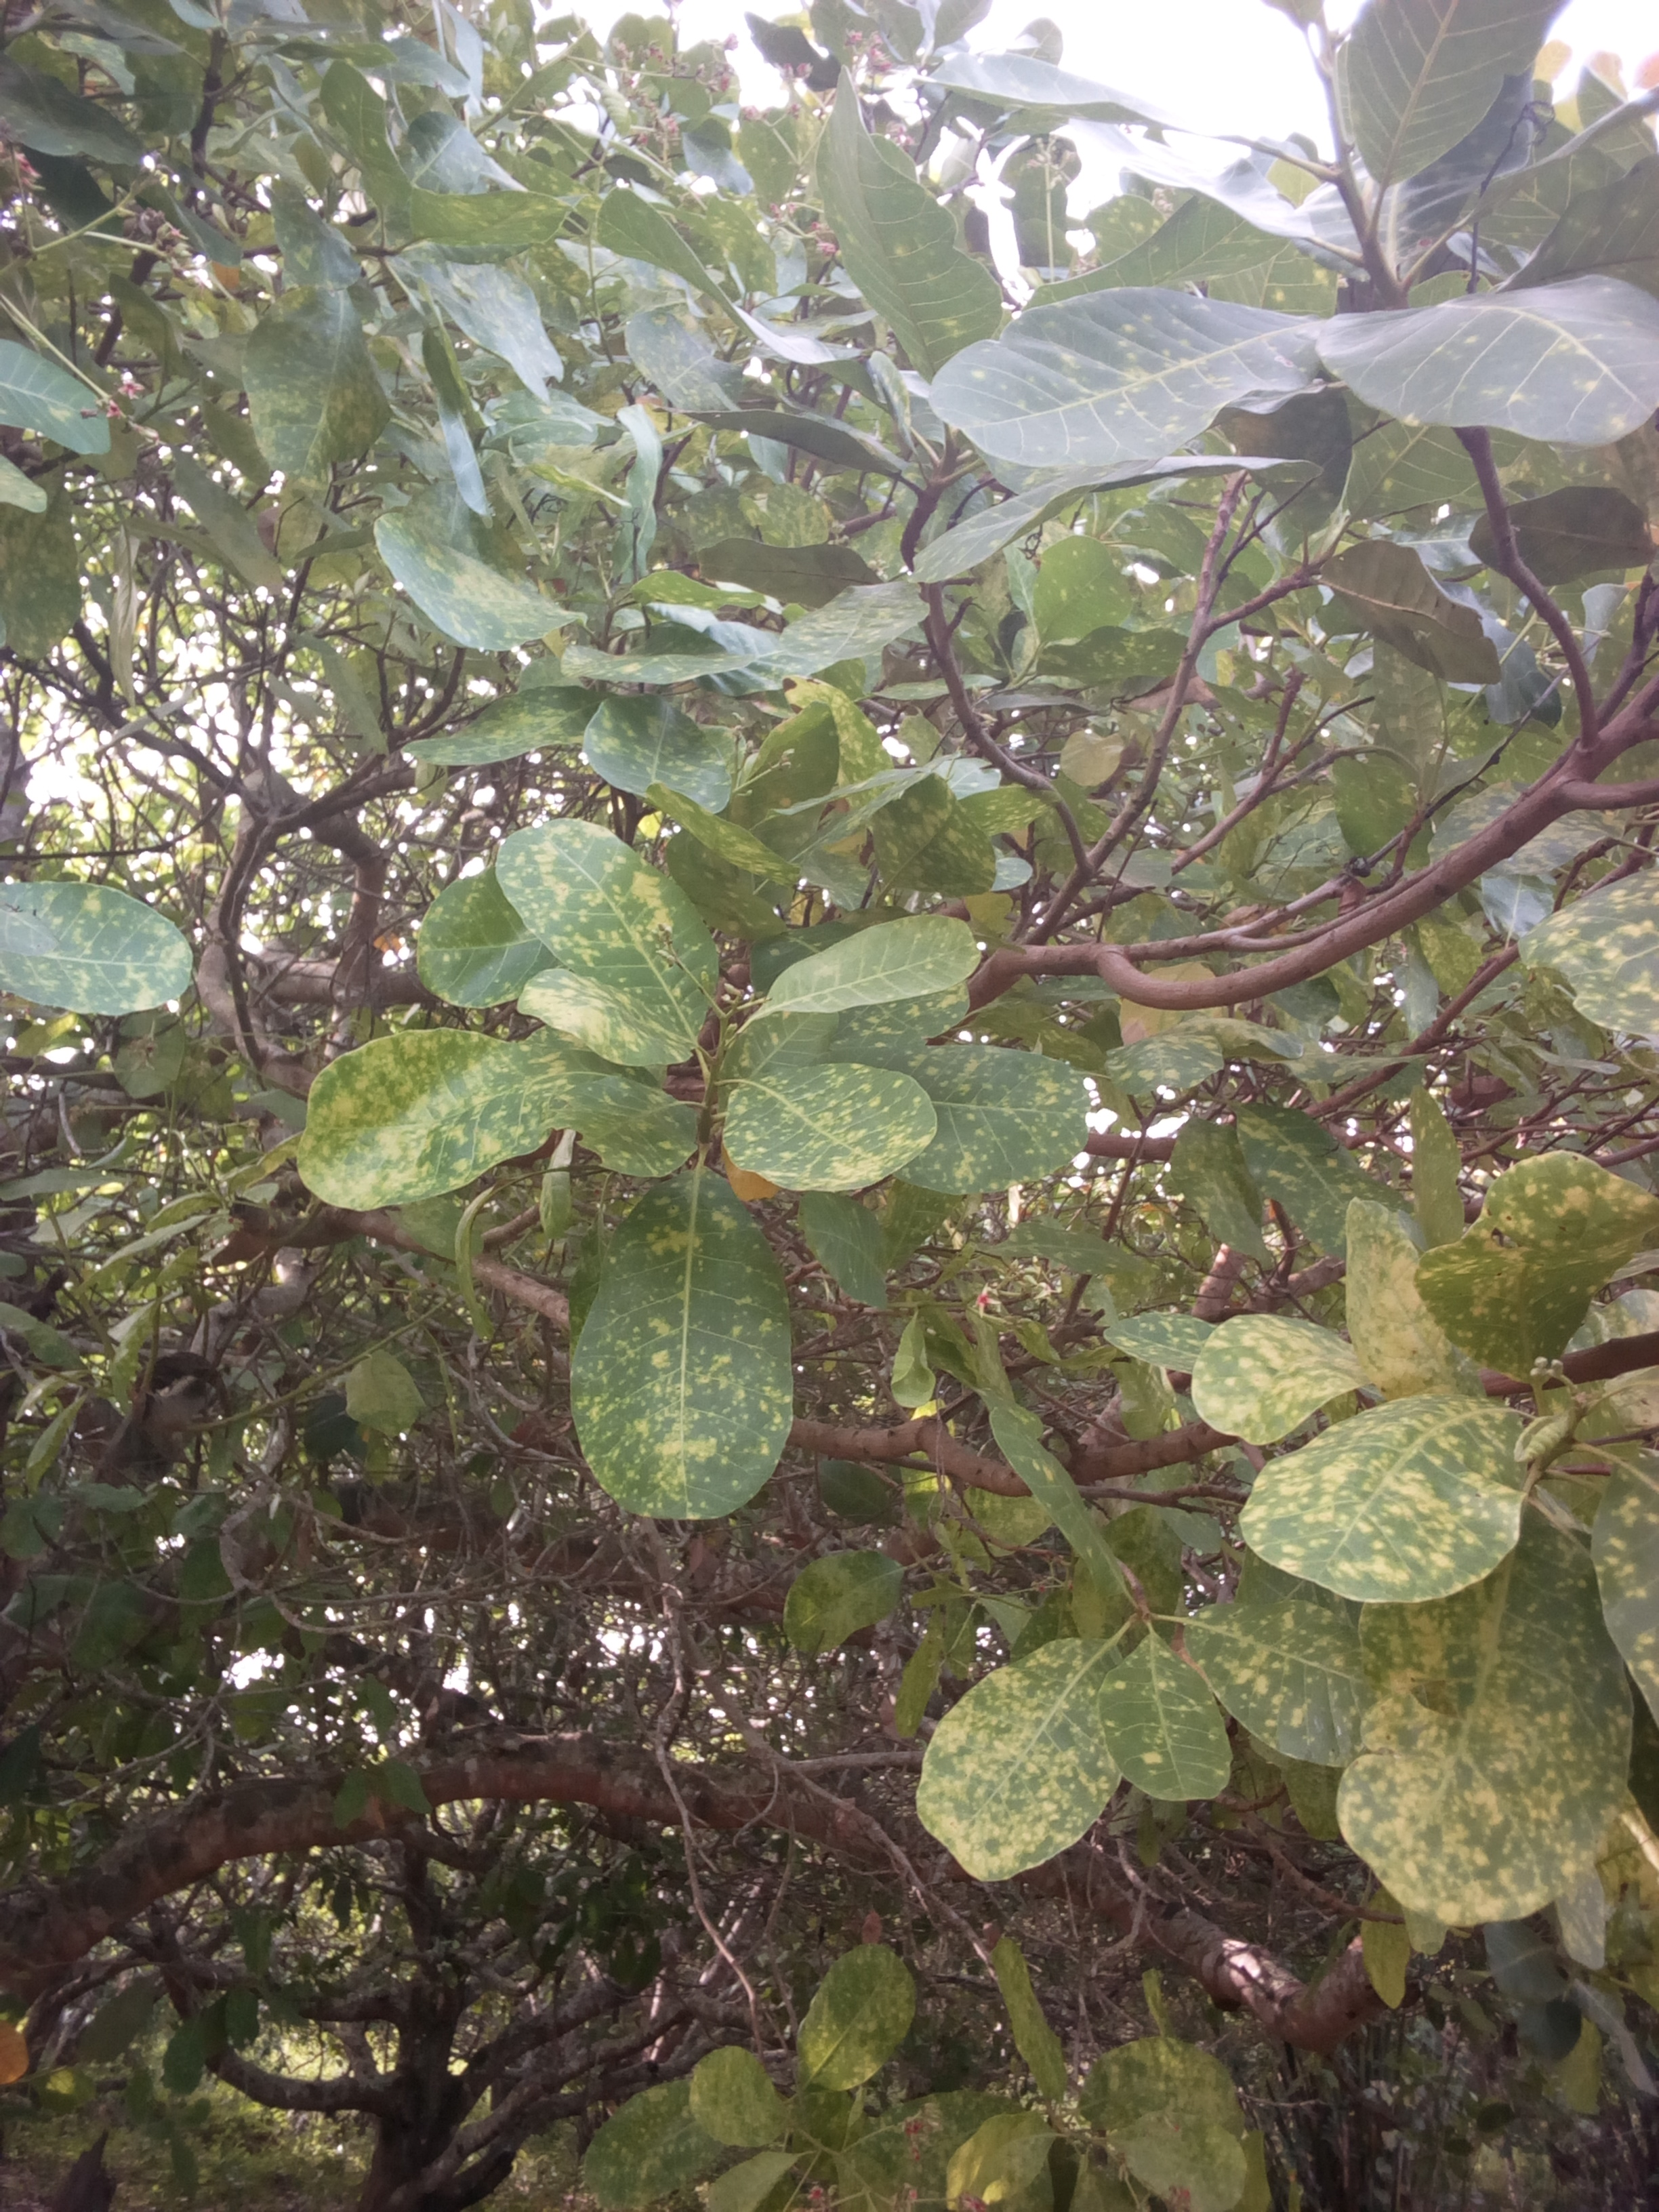Carence minérale: (558, 1160, 863, 1540), (1324, 1615, 1615, 1926), (920, 286, 1324, 496), (1220, 1400, 1551, 1604), (1314, 263, 1652, 458), (901, 1655, 1155, 1883), (284, 1028, 596, 1207), (481, 808, 721, 1038), (721, 1045, 976, 1191), (1182, 1289, 1389, 1461), (565, 662, 779, 819), (9, 887, 216, 1028), (765, 902, 1002, 1024)
